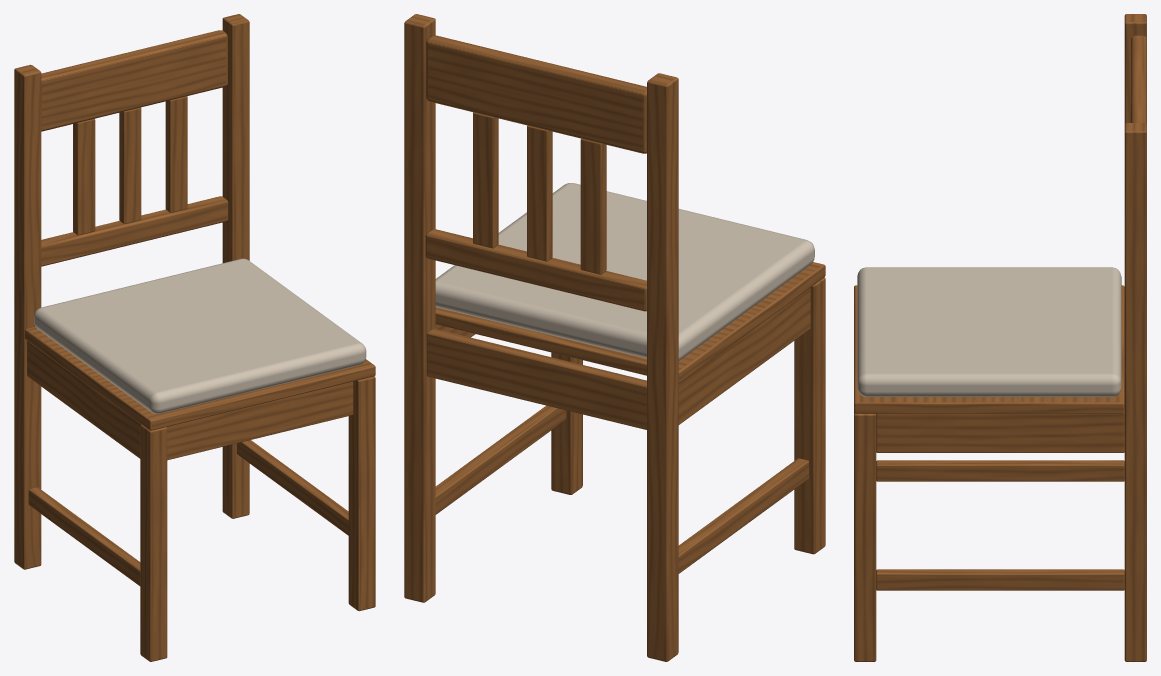
The model's file is dining-chair.glb.
3 views of the same model, side by side, from view 1: azimuth 30°, elevation 25°; view 2: azimuth 150°, elevation 25°; view 3: azimuth 270°, elevation 25° (orthographic). The views are drawn at different scales.
Parts seen in each view (by area): view 1: Wood, Fabric; view 2: Wood, Fabric; view 3: Wood, Fabric.
Part boxes in pixels (<box>): Wood: <box>14,14,375,661</box>; Fabric: <box>34,258,366,413</box>; Wood: <box>404,14,825,661</box>; Fabric: <box>435,183,814,360</box>; Wood: <box>854,14,1146,661</box>; Fabric: <box>857,267,1121,396</box>.
Size of the model in its own units: 0.44 by 0.92 by 0.46.
2 materials, 1 textured.
